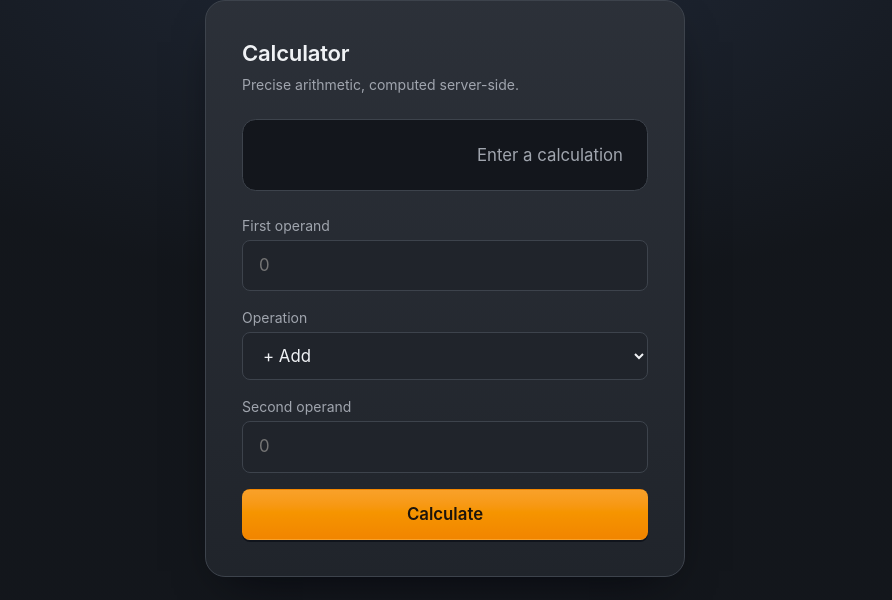
Test: Calculator › displays the sum when the user computes 7 + 5
The width and height of the screenshot is (892, 600).
Type "7" into the field labelled "First operand".
click(445, 266); type("7")  # box [242,240,648,291]
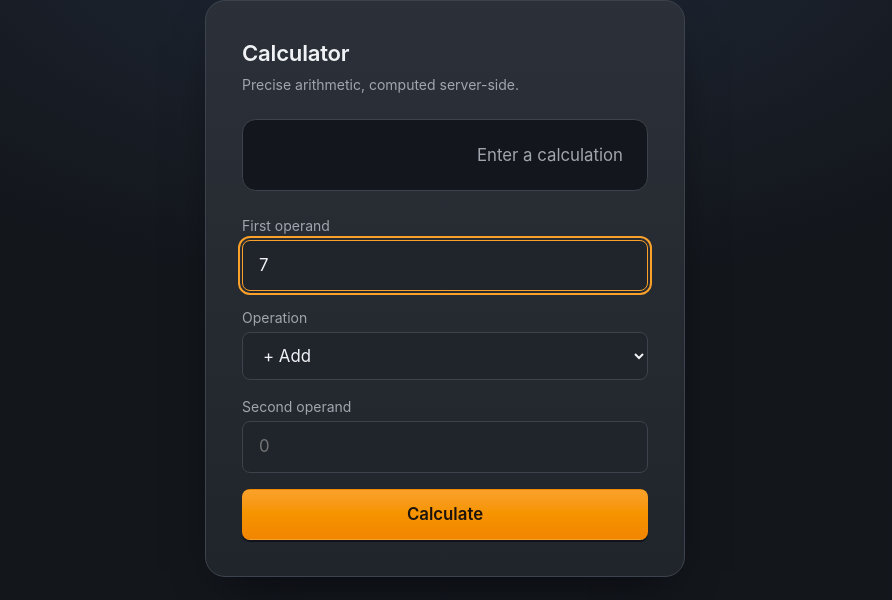
Select "+ Add" in the dropdown labelled "Operation" at [445, 356], box [242,332,648,380]
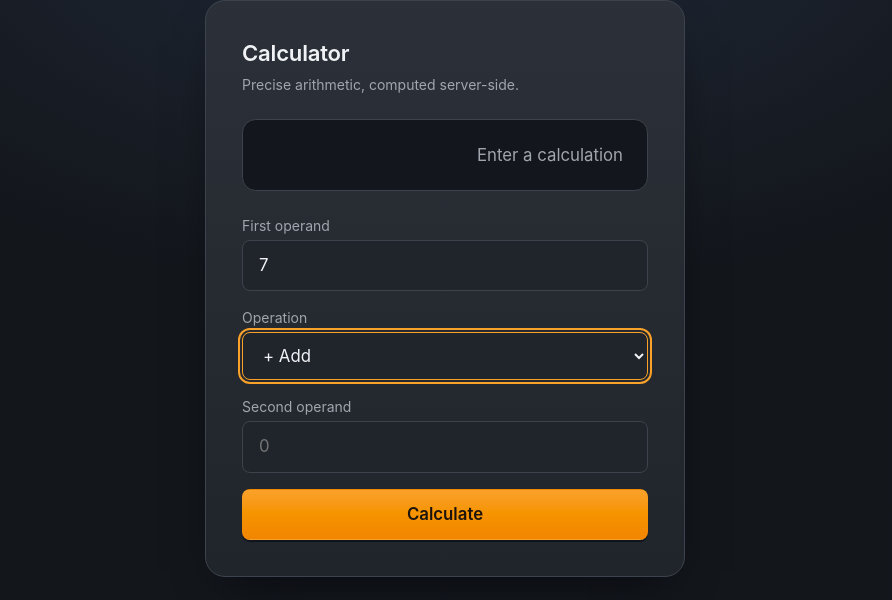
Type "5" into the field labelled "Second operand".
click(445, 447); type("5")  # box [242,421,648,473]
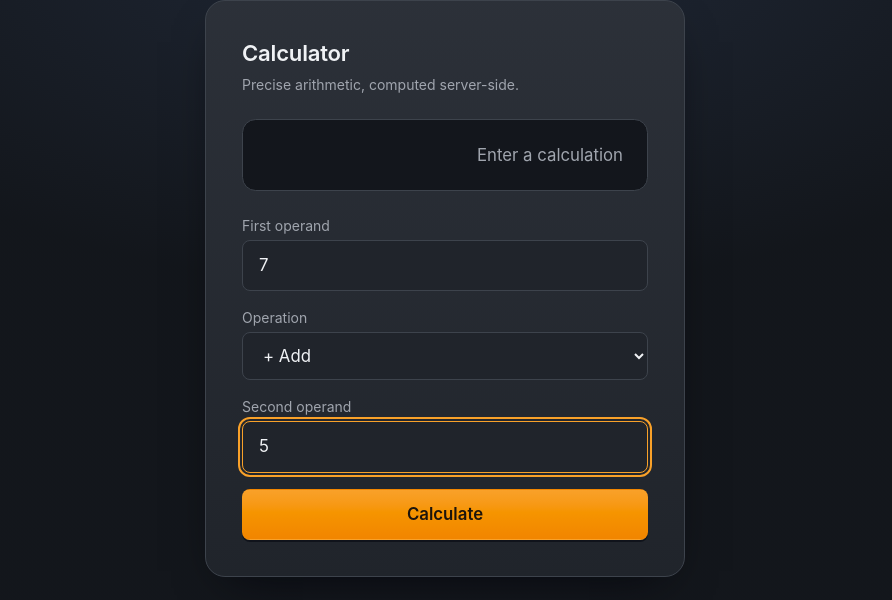
Click the button "Calculate".
click(445, 514)  # box [242,489,648,540]
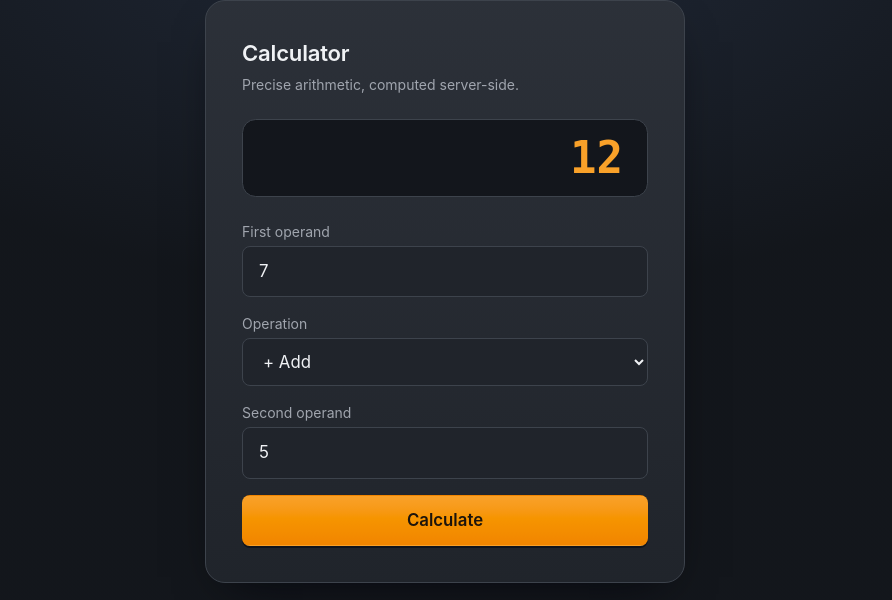
Check: the text "12" is shown, box [570,136,623,180]
